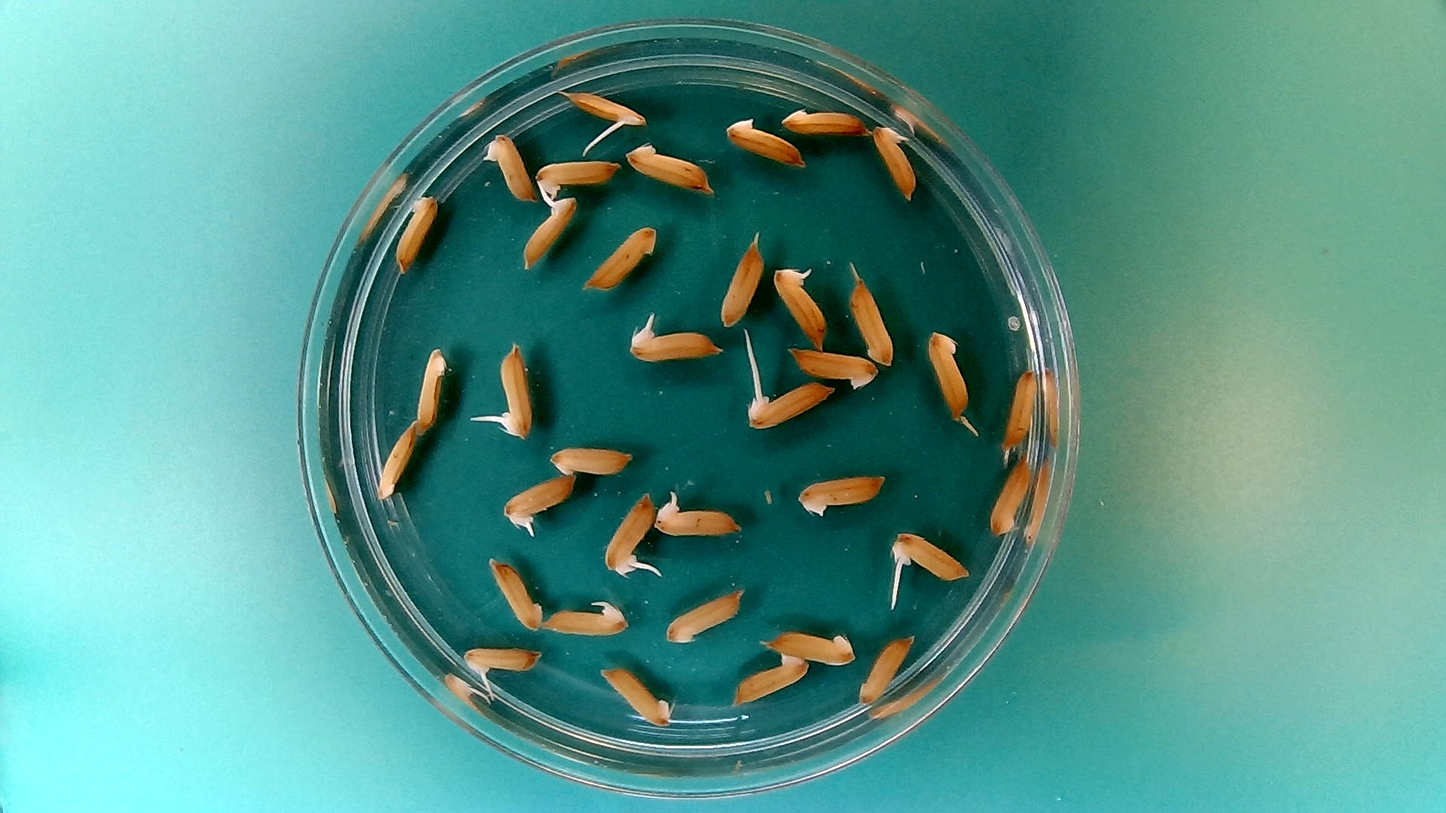no: (581, 221, 660, 292), (596, 662, 676, 729), (622, 139, 715, 196), (721, 113, 807, 171), (717, 233, 767, 329), (845, 274, 896, 366), (485, 555, 545, 632), (794, 469, 888, 518), (783, 346, 885, 391), (664, 586, 743, 644), (925, 327, 970, 424), (857, 631, 915, 705), (734, 653, 811, 708), (988, 456, 1036, 540), (1000, 364, 1042, 459), (760, 626, 857, 666), (532, 156, 621, 199), (392, 194, 441, 271), (374, 419, 418, 504), (413, 344, 447, 438), (548, 442, 636, 478), (779, 103, 865, 133)
yes: (770, 260, 831, 349), (520, 188, 580, 270), (490, 349, 536, 442), (746, 383, 835, 431), (606, 488, 657, 571), (501, 470, 580, 523), (483, 129, 538, 204), (871, 119, 918, 202), (652, 496, 741, 537), (540, 598, 630, 638), (894, 531, 967, 580), (569, 90, 652, 131), (627, 330, 725, 364), (464, 641, 543, 676)
